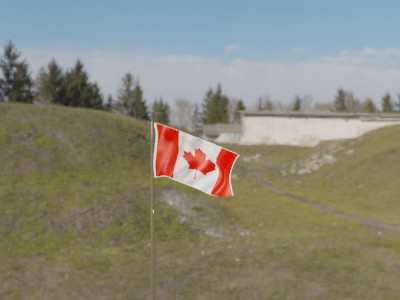Canada flag: (155, 123, 239, 201)
